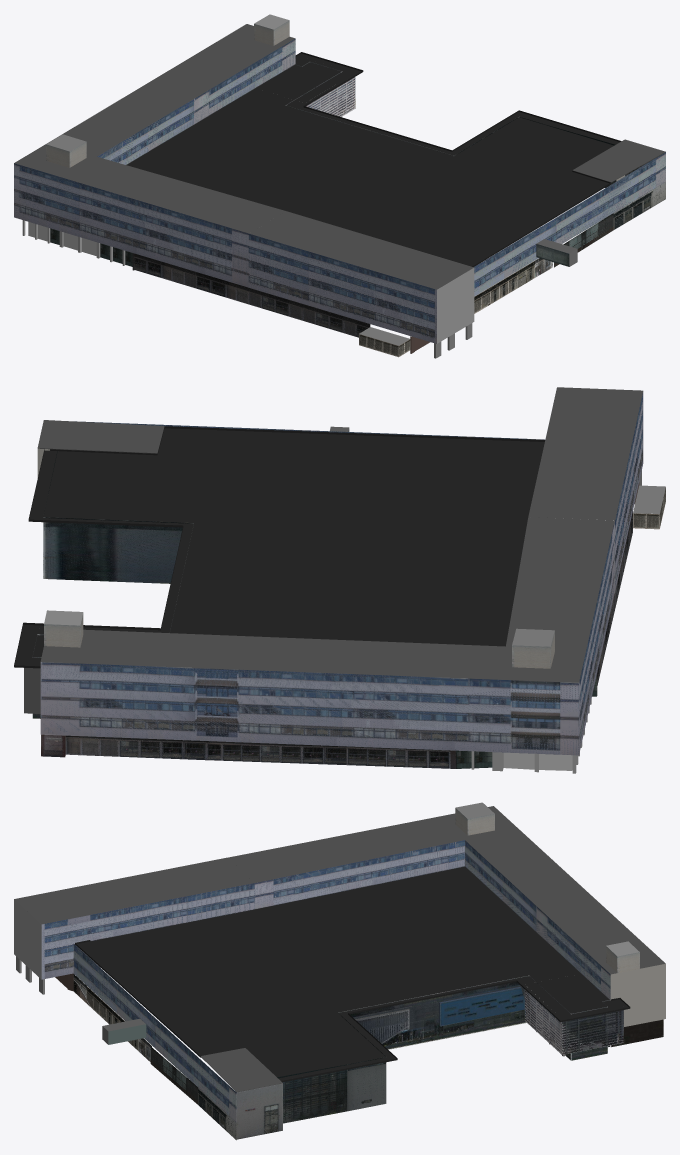
The model's file is IVG.fbx.
3 views of the same model, one above another, from view 1: azimuth 30°, elevation 25°; view 2: azimuth 150°, elevation 25°; view 3: azimuth 270°, elevation 25° (orthographic). The views are drawn at different scales.
Parts seen in each view (by area): view 1: Model, SIDES_2_2_1; view 2: Model, SIDES_2_1_1, VERTICAL35_1, SIDES_2_2_1, BOX_Topo02_1, BOX_Topo04_1, VERTICAL34_1; view 3: Model.
Part boxes in pixels (left/top/right/bottom): Model: left=14, top=14, right=665, bottom=358; SIDES_2_2_1: left=14, top=163, right=248, bottom=287; Model: left=14, top=387, right=665, bottom=764; SIDES_2_1_1: left=40, top=662, right=578, bottom=755; VERTICAL35_1: left=206, top=741, right=456, bottom=768; SIDES_2_2_1: left=579, top=522, right=614, bottom=754; BOX_Topo02_1: left=512, top=645, right=550, bottom=668; BOX_Topo04_1: left=512, top=628, right=554, bottom=646; VERTICAL34_1: left=456, top=750, right=492, bottom=768; Model: left=14, top=806, right=665, bottom=1140.
Size of the model in its own units: 142 by 22.85 by 150.
